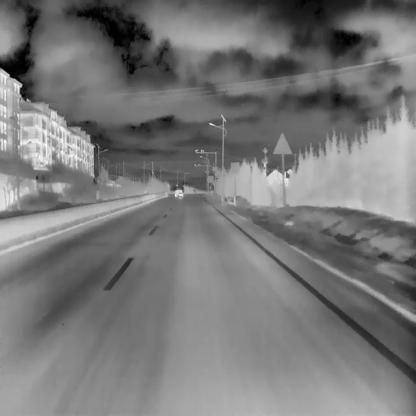car: (173, 184, 183, 196)
